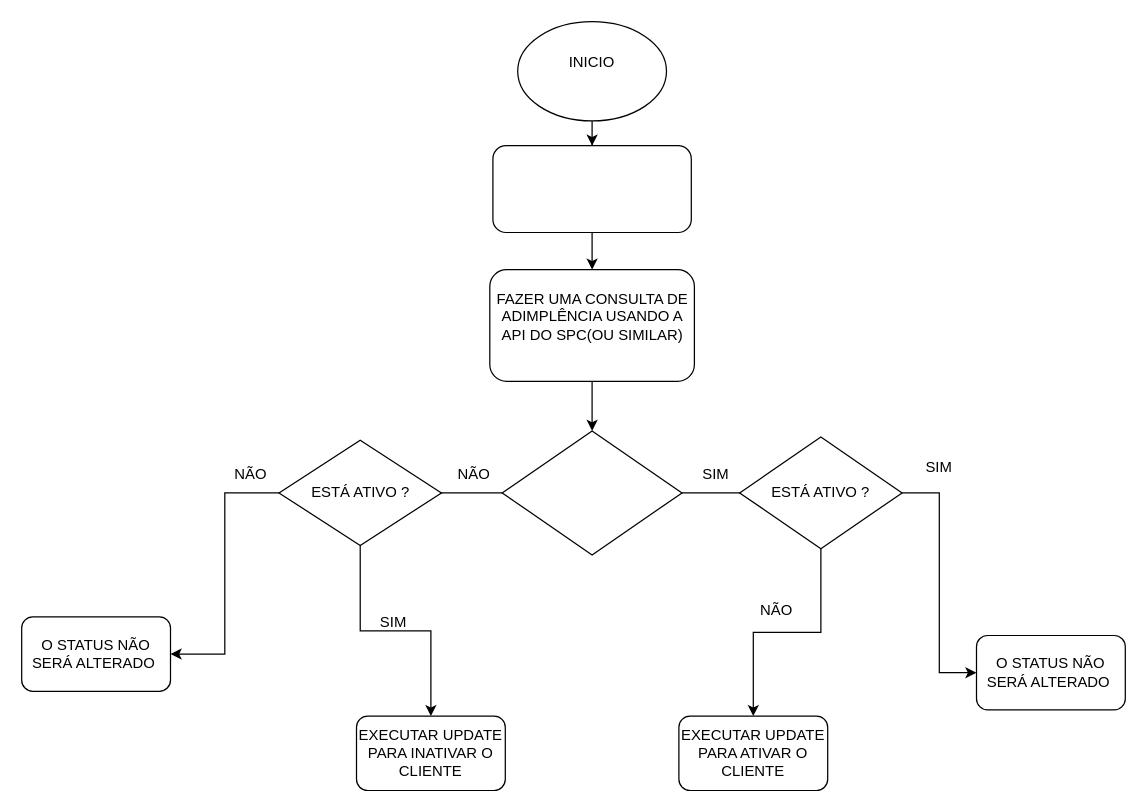
The diagram is 1147 pixels wide and 812 high, and some of its shapes have lost their labels. Here are the shapes that lost their labels. From the top down, the box of each, then its label:
(492, 144, 691, 232): CONSULTAR CPF\CNPJ DOS CLIENTES ATIVOS NO BANCO DE DADOS
(501, 430, 682, 555): ESTÁ ADIMPLENTE ?
